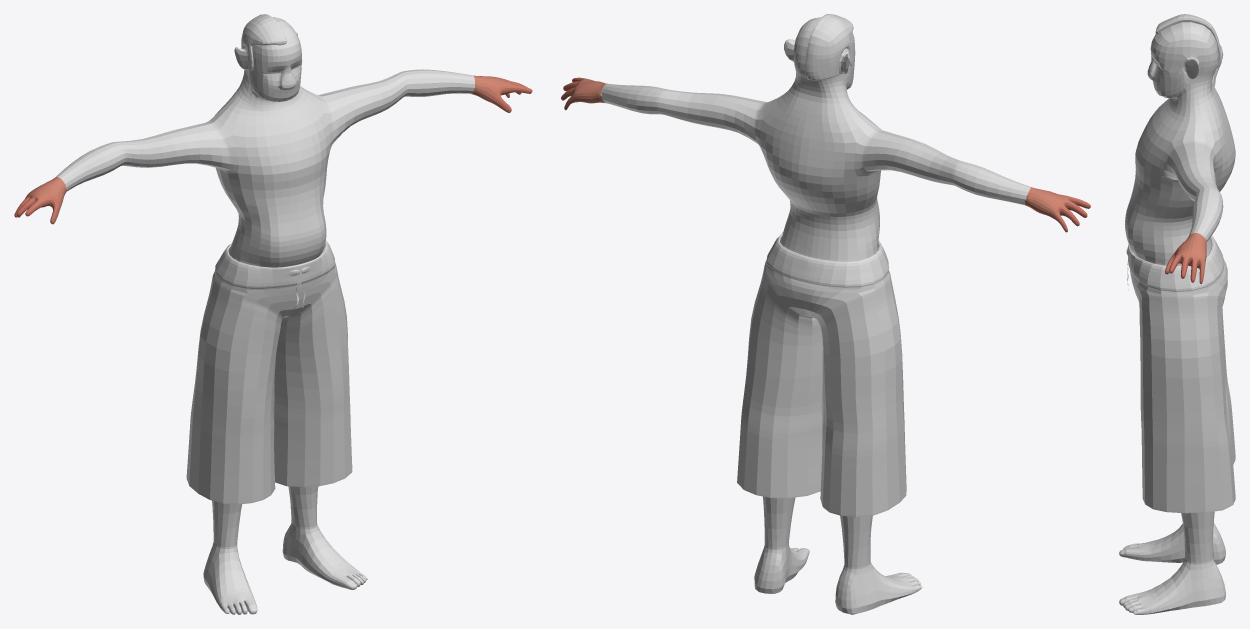
The model's file is SlaveBoy.fbx.
3 renders of one model, left to right at view 1: azimuth 30°, elevation 25°; view 2: azimuth 150°, elevation 25°; view 3: azimuth 270°, elevation 25°, orthographic. The views are drawn at different scales.
Visible parts, largest first — view 1: Body, Trousers, Hair; view 2: Trousers, Body, Hair; view 3: Body, Trousers, Hair.
Part boxes in pixels (x1,y1,x2,y2): Body: (14, 17, 532, 614); Trousers: (186, 240, 352, 504); Hair: (241, 14, 286, 70); Trousers: (737, 232, 906, 517); Body: (561, 17, 1090, 614); Hair: (805, 14, 853, 80); Body: (1119, 22, 1235, 614); Trousers: (1126, 236, 1235, 513); Hair: (1155, 14, 1221, 68).
Bounding box in the file's own units: 4934 × 5181 × 970.
